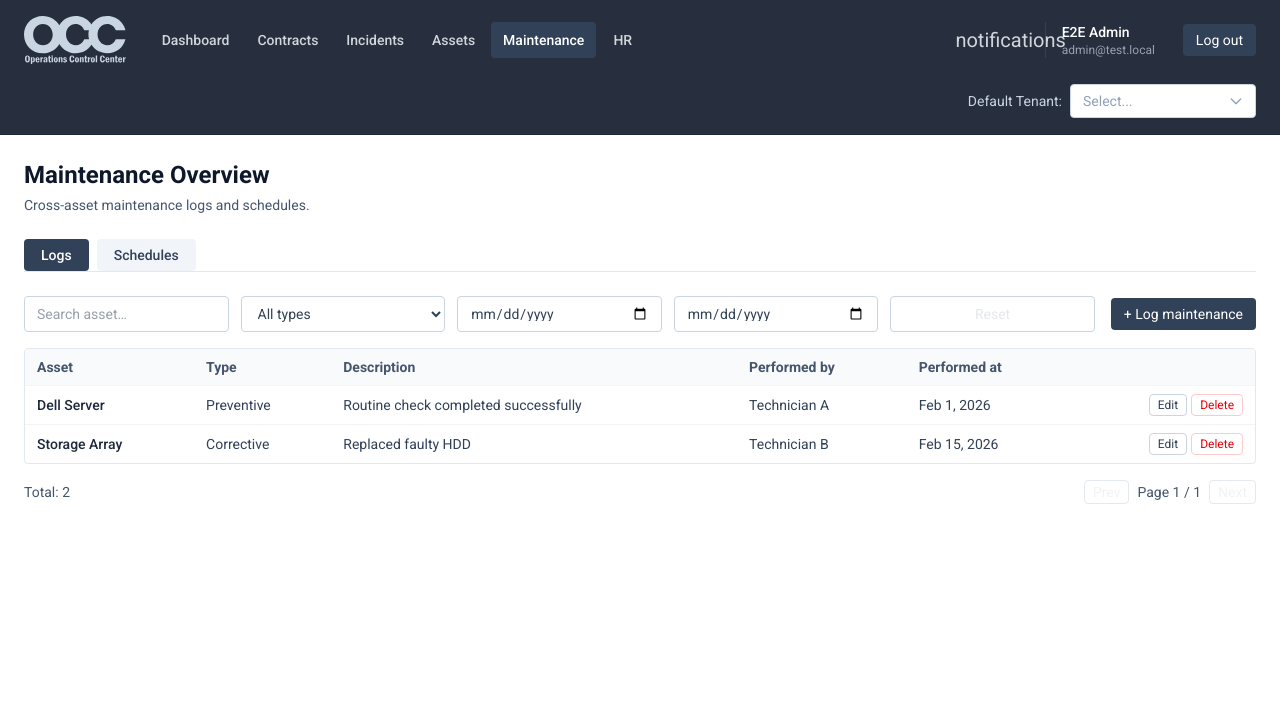
Test: Maintenance overview page › M02 – Schedules tab shows entries with state badges
This screenshot has width=1280, height=720.
Note: Switch to Schedules tab
Click the button "Schedules": {"x": 147, "y": 255} [97,239,196,271]
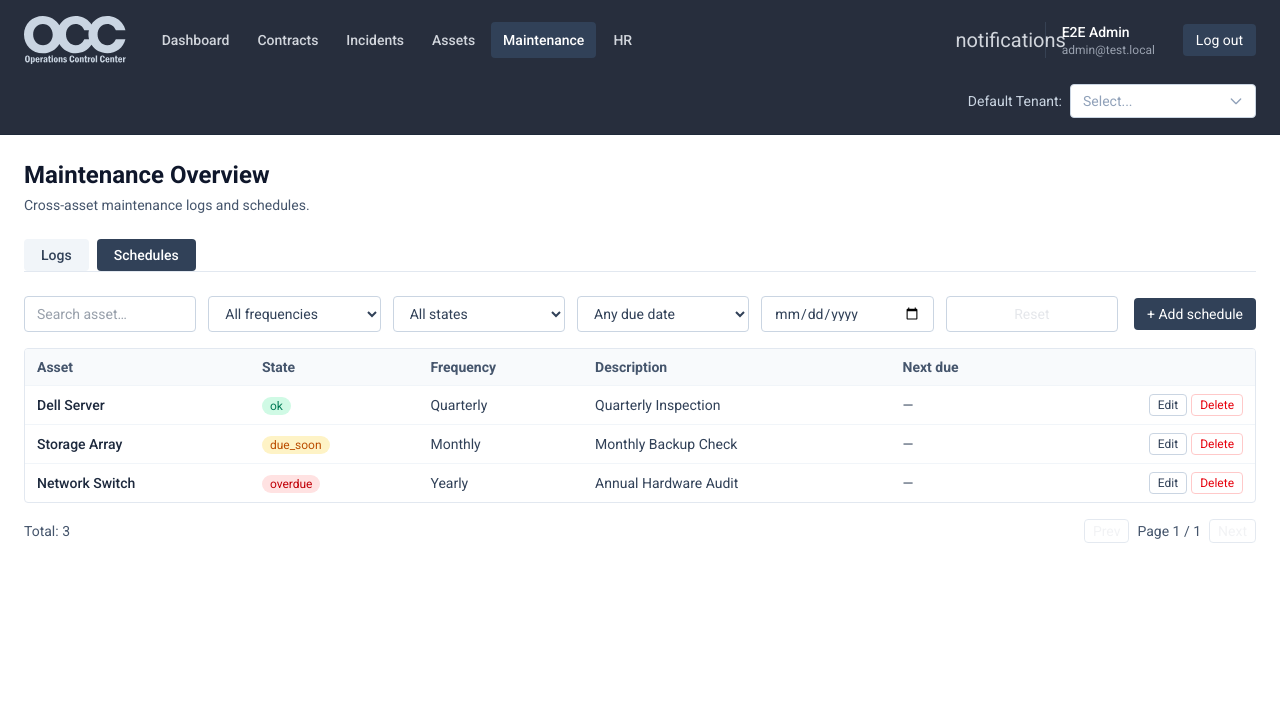
Check: the text "Quarterly Inspection" is shown, box [583,386,891,424]
Check: the text "Monthly Backup Check" is shown, box [583,424,891,464]
Check: the text "Annual Hardware Audit" is shown, box [583,464,891,502]
